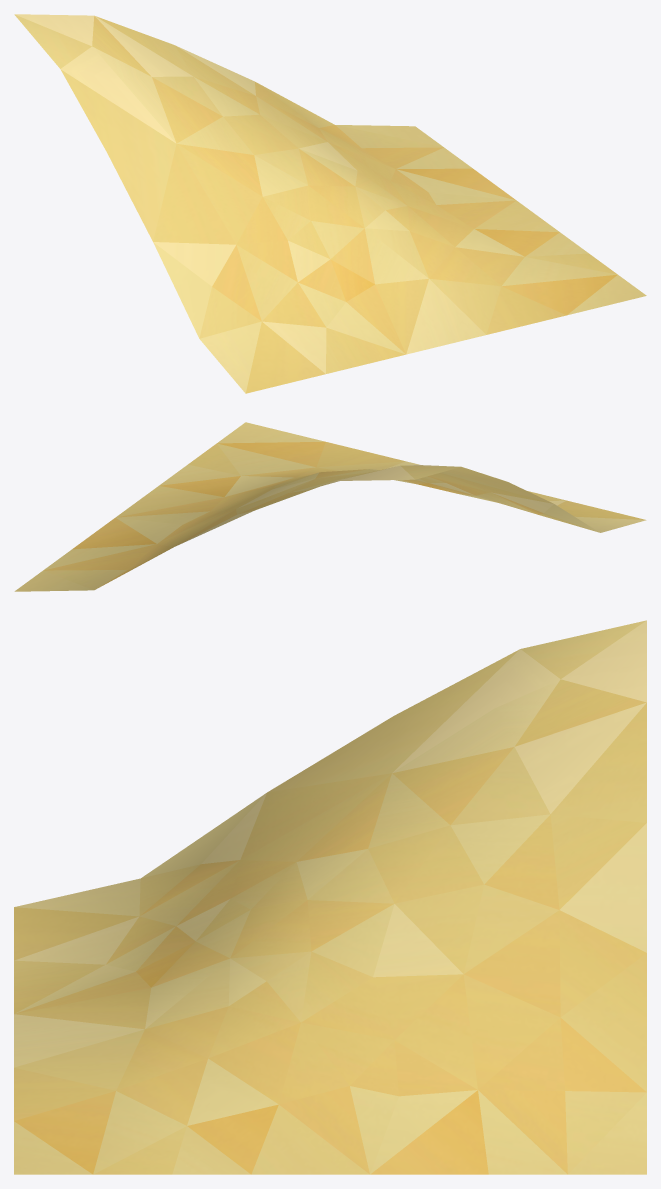
File: GL-Terrain-part-09.fbx
3 views of the same model, one above another, from view 1: azimuth 30°, elevation 25°; view 2: azimuth 150°, elevation 25°; view 3: azimuth 270°, elevation 25° (orthographic). The views are drawn at different scales.
Parts seen in each view (by area): view 1: GL-Terrain-part-09; view 2: GL-Terrain-part-09; view 3: GL-Terrain-part-09.
Part boxes in pixels (left/top/right/bottom): GL-Terrain-part-09: left=14, top=14, right=646, bottom=393; GL-Terrain-part-09: left=14, top=422, right=646, bottom=591; GL-Terrain-part-09: left=14, top=620, right=646, bottom=1174.
Size of the model in its own units: 6 by 3 by 6.
